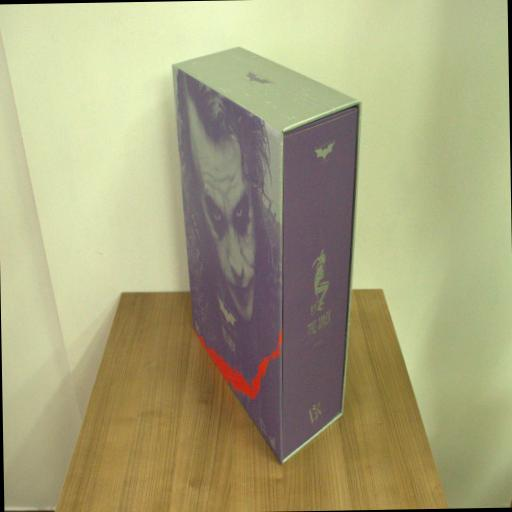Joker: (170, 40, 370, 470)
